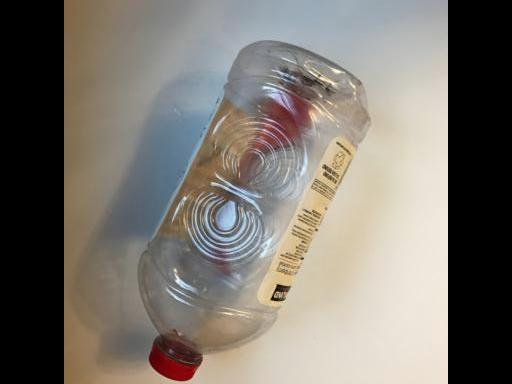PET: (135, 39, 371, 381)
plastic: (135, 39, 371, 381)
